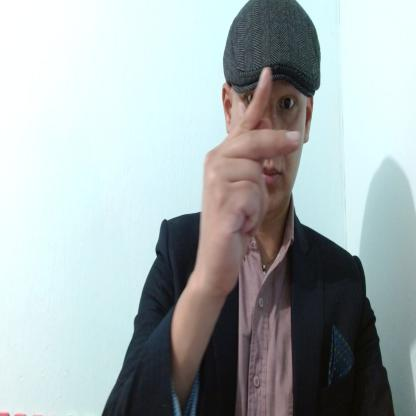P: (196, 64, 302, 298)
